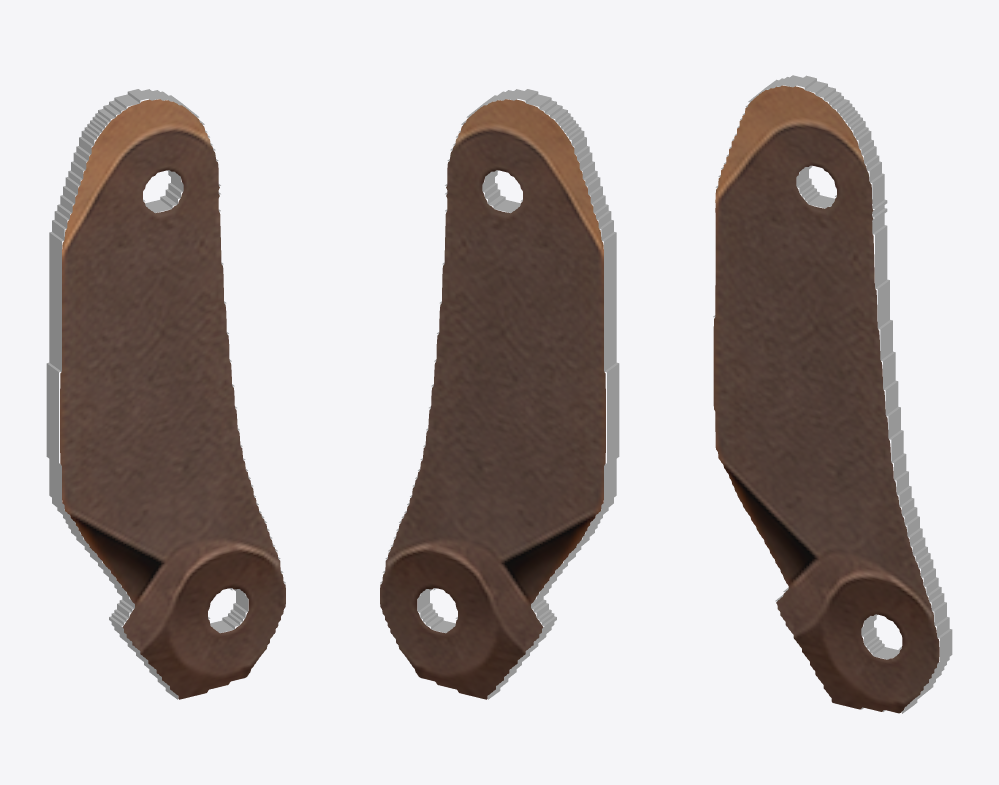
The model's file is Variant04Upper.glb.
The picture shows the model from 3 angles, left to right: view 1: azimuth 30°, elevation 25°; view 2: azimuth 150°, elevation 25°; view 3: azimuth 330°, elevation 25°; orthographic projection.
Parts seen in each view (by area): view 1: PaperVolume; view 2: PaperVolume; view 3: PaperVolume.
Boxes of the visible parts, x1,y1,x2,y2 form: PaperVolume: (46, 89, 285, 699); PaperVolume: (380, 89, 619, 699); PaperVolume: (713, 75, 952, 713).
Size of the model in its own units: 1.08 by 2.39 by 0.08.
3 materials, 2 textured.
